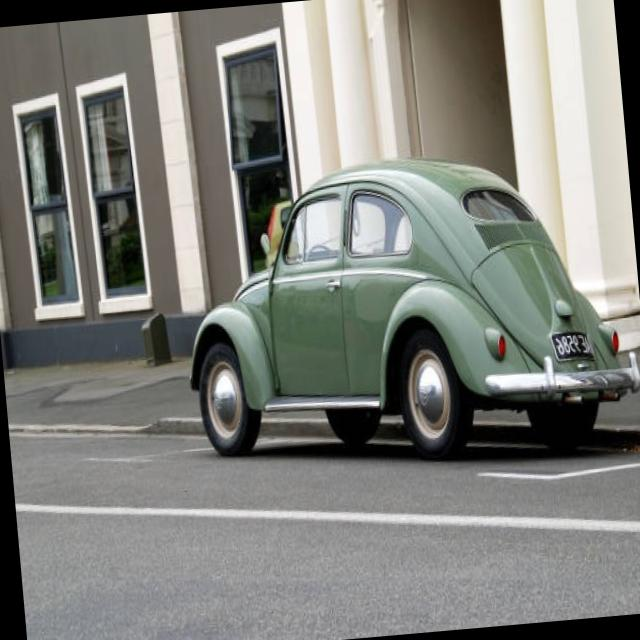car: (173, 148, 640, 454)
